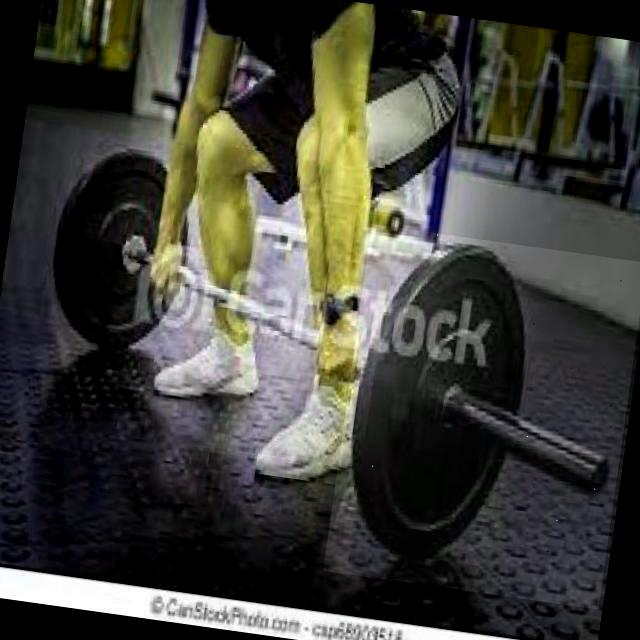barbell: (324, 225, 640, 610)
